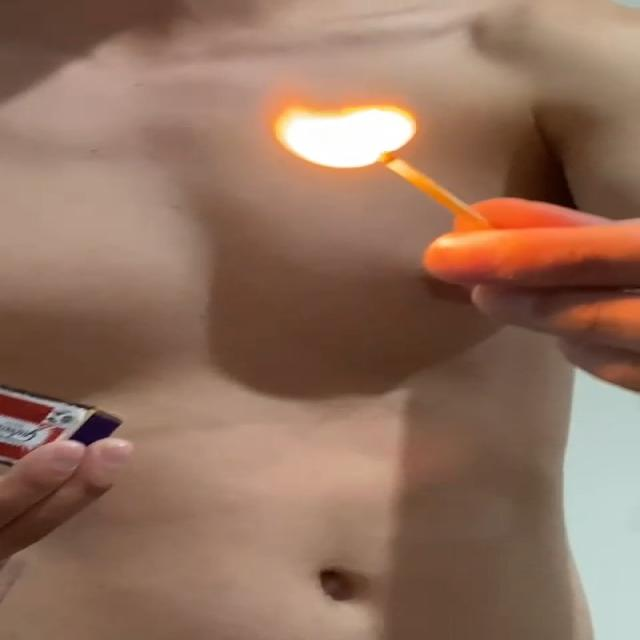fogo-ypXI: (266, 86, 424, 172)
